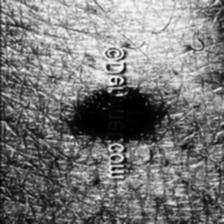Potentially Malignant Skin Tumors: (78, 90, 153, 138)
